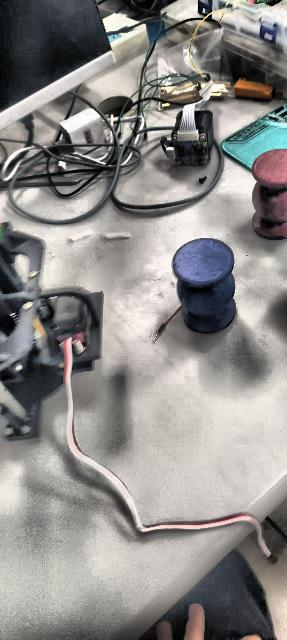blue: (173, 237, 238, 333)
red: (252, 151, 287, 243)
